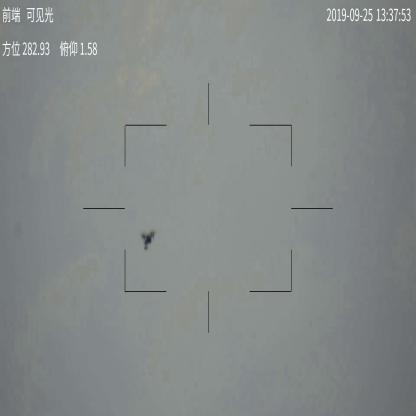uav: (140, 228, 156, 251)
